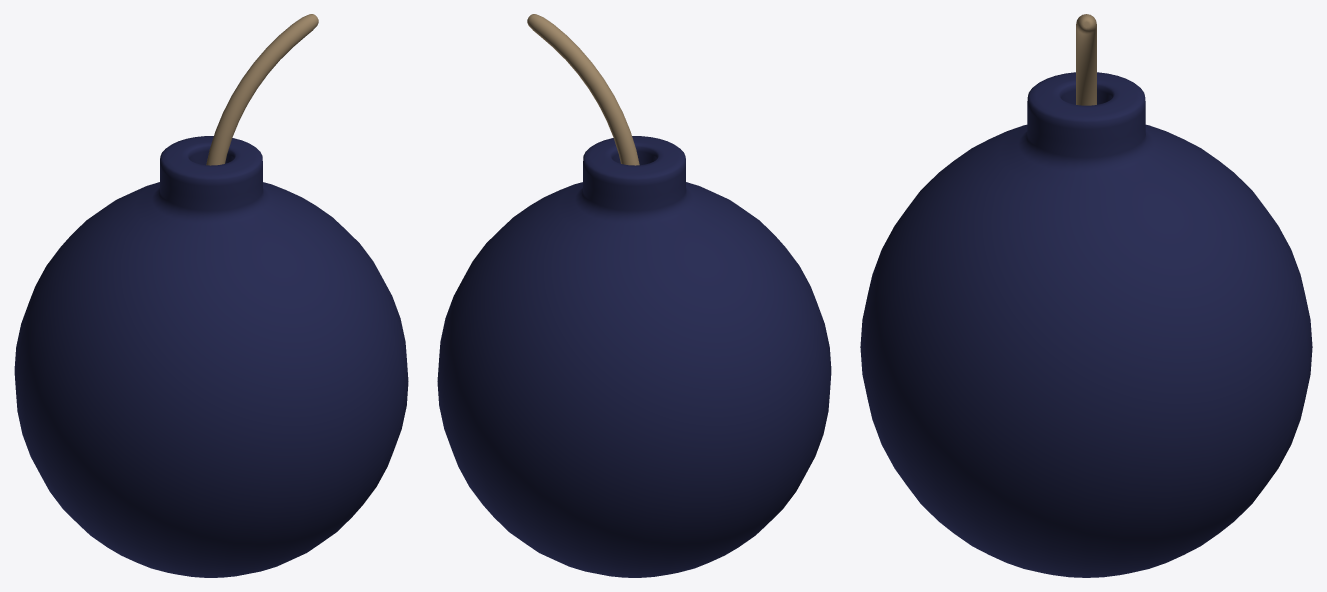
The model's file is Bomb.fbx.
3 views of the same model, side by side, from view 1: azimuth 30°, elevation 25°; view 2: azimuth 150°, elevation 25°; view 3: azimuth 270°, elevation 25° (orthographic). The views are drawn at different scales.
Visible parts, largest first — view 1: Bomb; view 2: Bomb; view 3: Bomb.
Part boxes in pixels (bbox=[...]): Bomb: bbox=[14, 14, 408, 577]; Bomb: bbox=[437, 14, 831, 577]; Bomb: bbox=[860, 14, 1312, 577].
Bounding box in the file's own units: 193 × 281 × 193.
